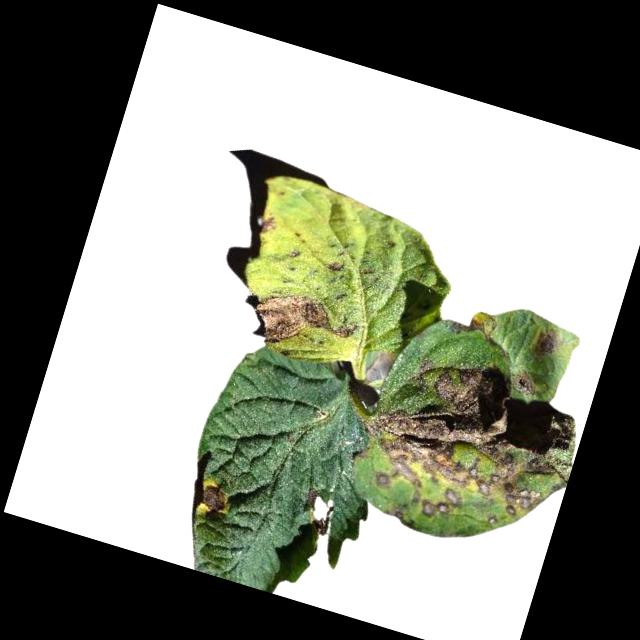Early_blight: (348, 339, 592, 551), (246, 281, 363, 366), (298, 485, 337, 538), (450, 306, 499, 343), (196, 478, 233, 518), (531, 327, 563, 358), (510, 367, 542, 398), (259, 212, 277, 234), (325, 257, 344, 274)
